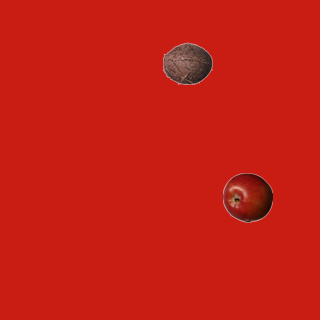Apple Braeburn: (222, 172, 272, 222)
Cocos: (162, 38, 212, 88)
